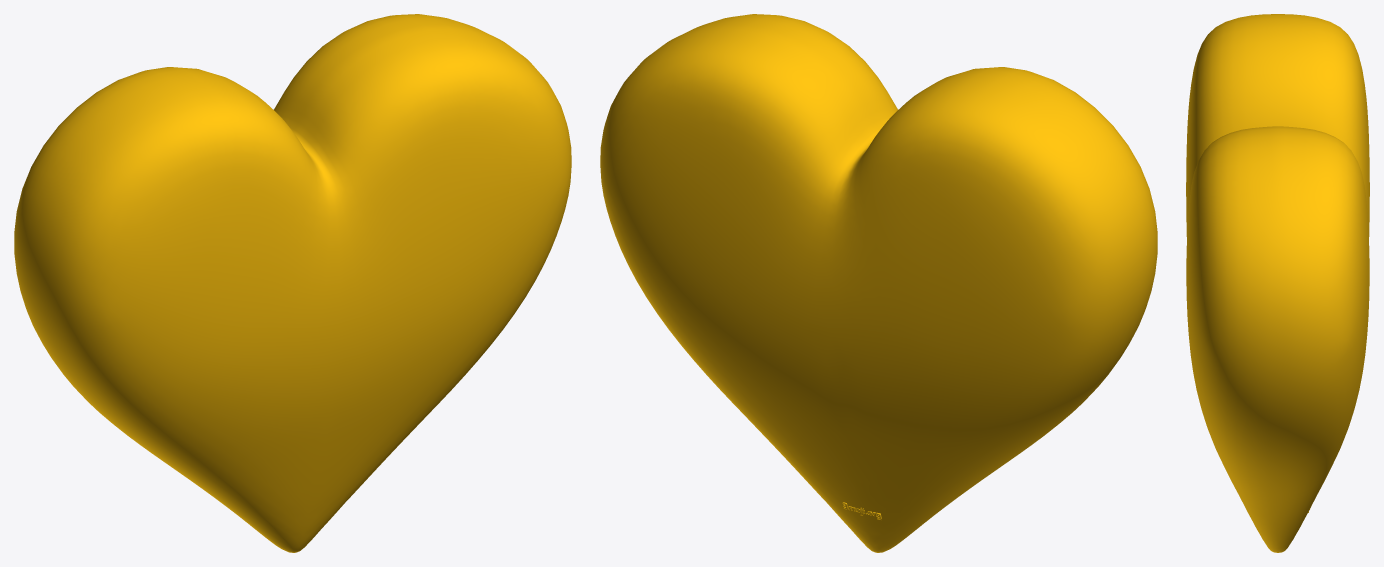
The model's file is yellow_heart.fbx.
3 views of the same model, side by side, from view 1: azimuth 30°, elevation 25°; view 2: azimuth 150°, elevation 25°; view 3: azimuth 270°, elevation 25° (orthographic). The views are drawn at different scales.
Parts seen in each view (by area): view 1: hfdjkslfjkds.020; view 2: hfdjkslfjkds.020; view 3: hfdjkslfjkds.020.
Boxes of the visible parts, bbox=[...] form: hfdjkslfjkds.020: bbox=[14, 14, 571, 552]; hfdjkslfjkds.020: bbox=[600, 14, 1157, 552]; hfdjkslfjkds.020: bbox=[1186, 14, 1369, 552].
Bounding box in the file's own units: 186 × 168 × 59.56.
1 material, 1 textured.
